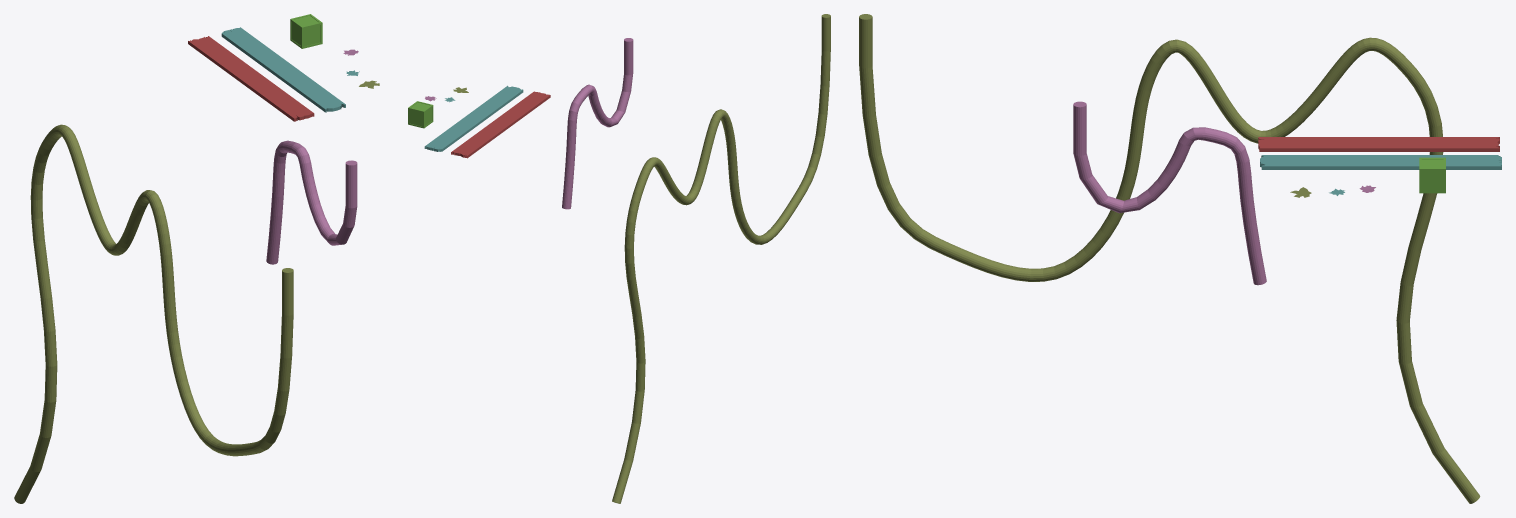
Rendered from Misc Furniture.fbx.
The picture shows the model from 3 angles, left to right: view 1: azimuth 30°, elevation 25°; view 2: azimuth 150°, elevation 25°; view 3: azimuth 270°, elevation 25°; orthographic projection. The views are drawn at different scales.
Visible parts, largest first — view 1: Wire_V2, Wire_V1, Wooden_Plank_V1, Wooden_Plank_V2, Crate; view 2: Wire_V2, Wire_V1, Wooden_Plank_V1, Wooden_Plank_V2, Crate; view 3: Wire_V2, Wire_V1, Wooden_Plank_V1, Wooden_Plank_V2, Crate.
Part boxes in pixels (<box>): Wire_V2: <box>14,124,293,503</box>; Wire_V1: <box>266,140,357,264</box>; Wooden_Plank_V1: <box>188,36,314,121</box>; Wooden_Plank_V2: <box>221,27,345,112</box>; Crate: <box>290,14,322,48</box>; Wire_V2: <box>612,14,830,503</box>; Wire_V1: <box>562,38,633,209</box>; Wooden_Plank_V1: <box>451,91,550,158</box>; Wooden_Plank_V2: <box>424,85,523,151</box>; Crate: <box>408,101,433,128</box>; Wire_V2: <box>859,14,1480,503</box>; Wire_V1: <box>1073,101,1266,285</box>; Wooden_Plank_V1: <box>1258,137,1499,151</box>; Wooden_Plank_V2: <box>1260,155,1501,169</box>; Crate: <box>1419,157,1445,193</box>.
Bounding box in the file's own units: 14.47 × 20.05 × 23.92.
